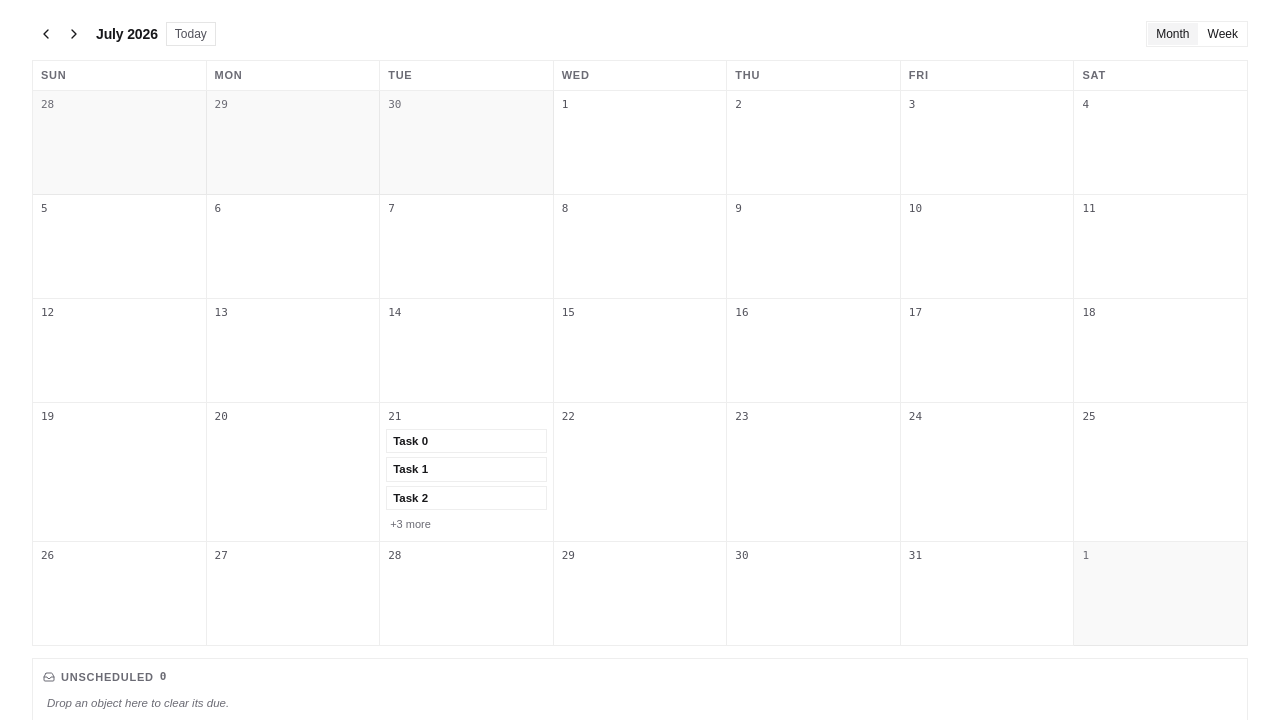
Test: placement › collapses a crowded day behind +N and expands it on demand
Check: the number of buttons "Task 0" is 3, box x1=386 y1=429 x2=547 y2=453; x1=386 y1=457 x2=547 y2=482; x1=386 y1=486 x2=547 y2=510
Click the button "+3 more" at (466, 524), box x1=386 y1=514 x2=547 y2=535
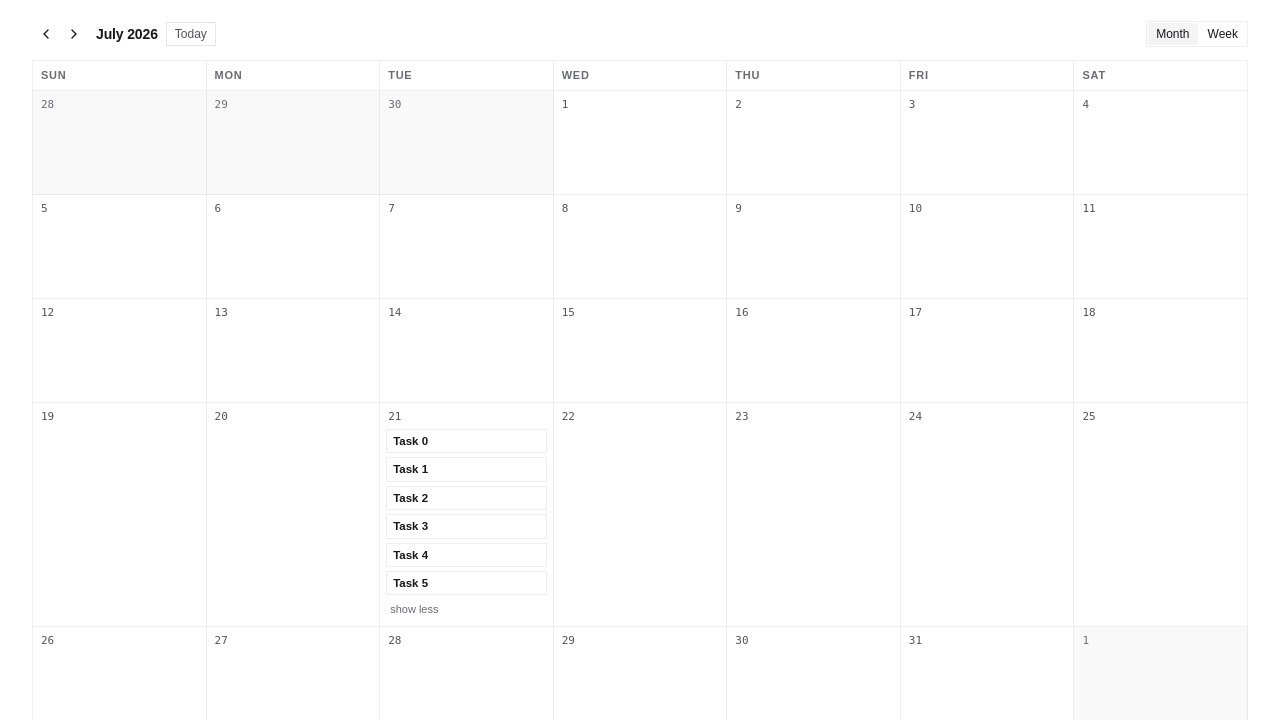
Check: the number of buttons "Task 0" is 6, box x1=386 y1=429 x2=547 y2=453; x1=386 y1=457 x2=547 y2=482; x1=386 y1=486 x2=547 y2=510; x1=386 y1=514 x2=547 y2=538; x1=386 y1=542 x2=547 y2=567; x1=386 y1=571 x2=547 y2=595
